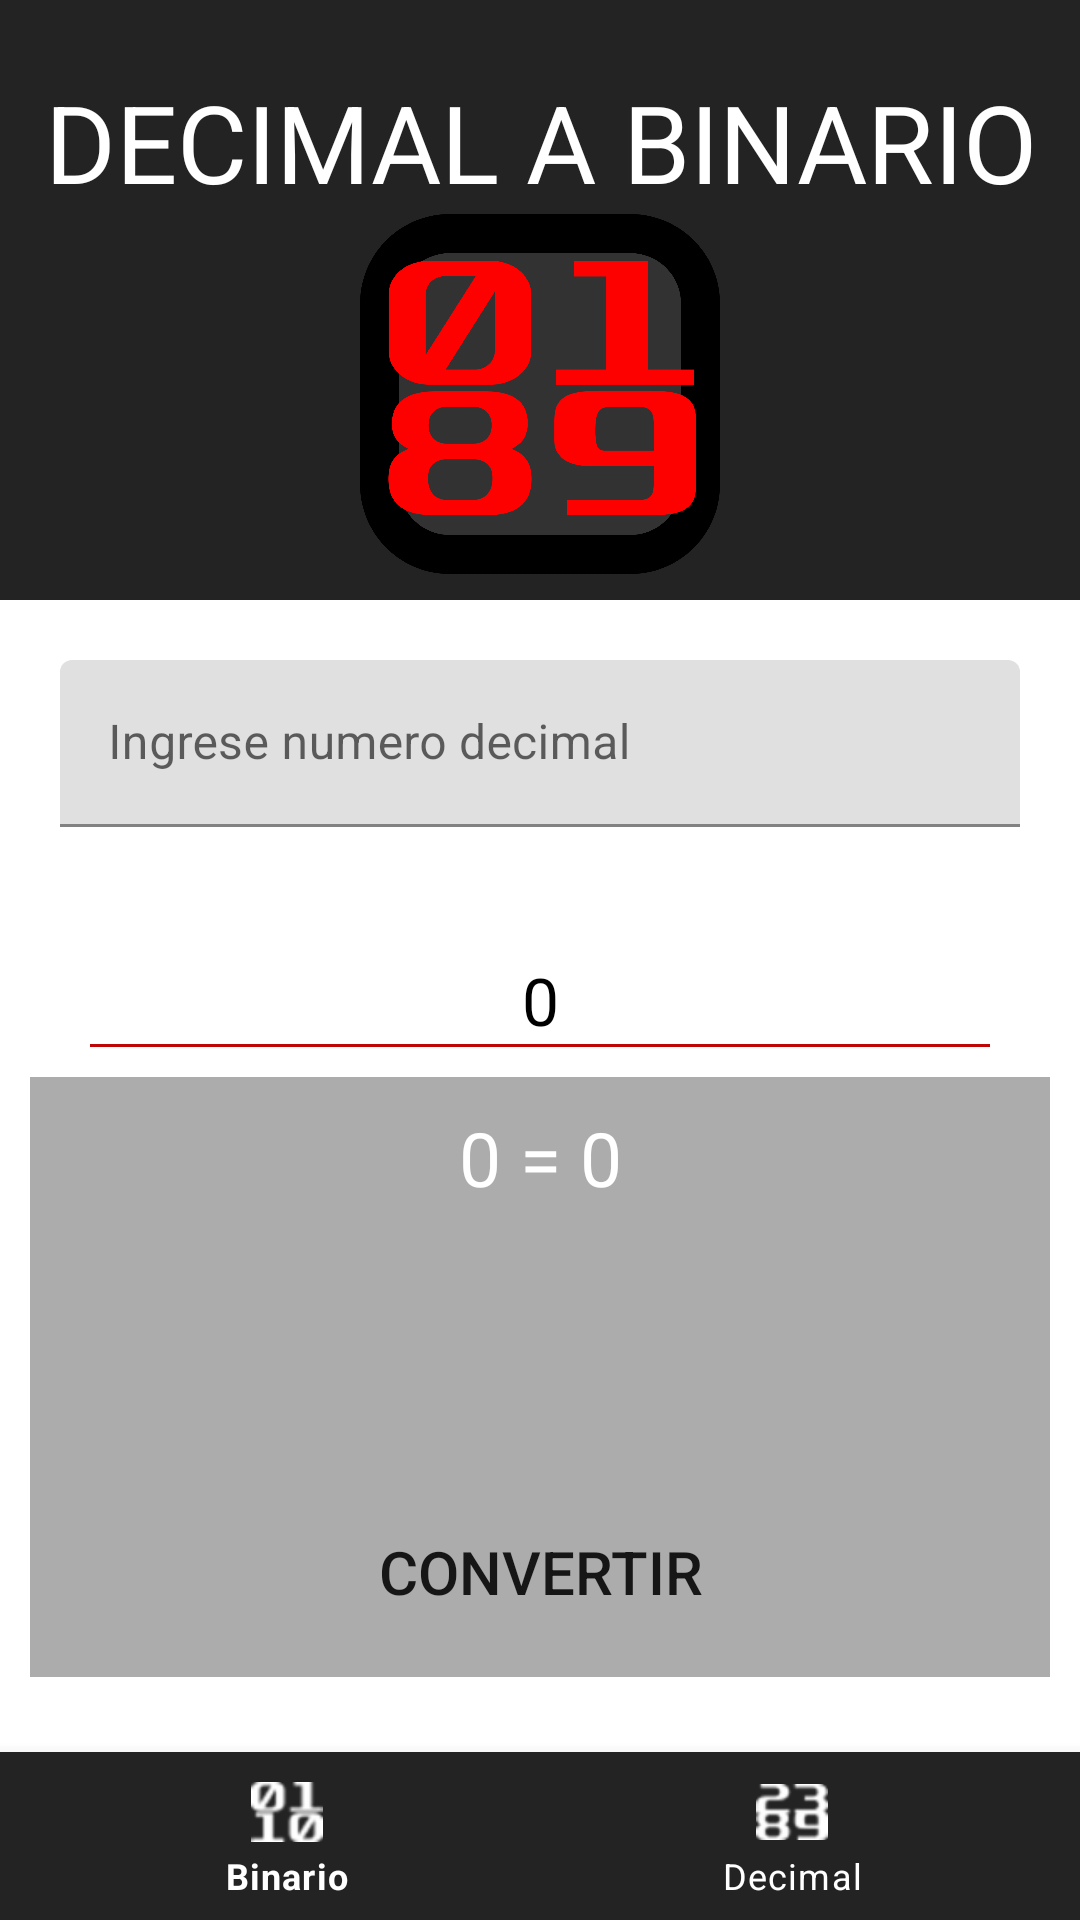

Screen size 1080 × 1920. Icon name, then its box in pixels as bbox(x1, y1, x2, y2):
bindecimagehuge: bbox(360, 214, 720, 574)
